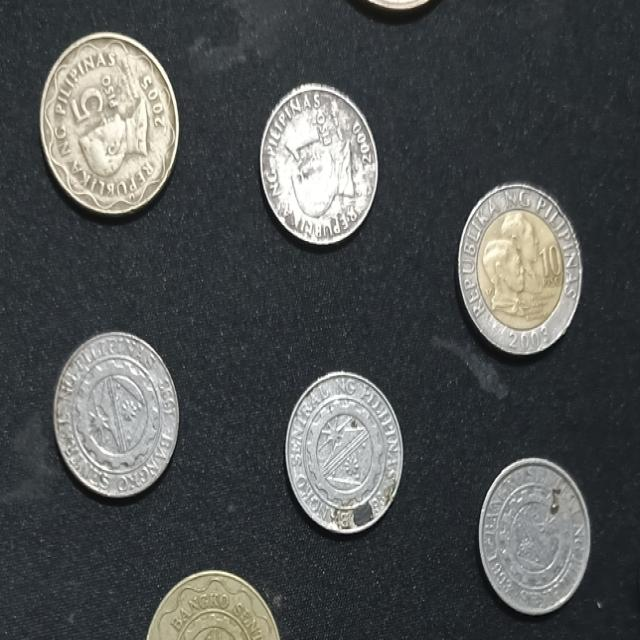10_peso: (457, 182, 581, 353)
1_peso: (54, 332, 178, 497), (260, 84, 378, 244), (286, 372, 402, 532), (479, 459, 589, 613)
5_peso: (41, 33, 178, 214)
